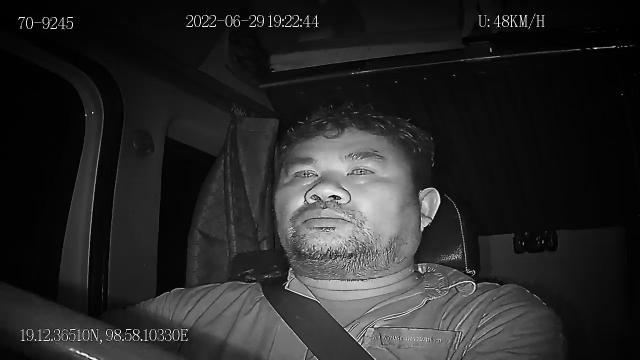SafeDriving: (282, 159, 324, 188), (342, 155, 384, 182)
Seatbelt: (226, 259, 378, 360)
